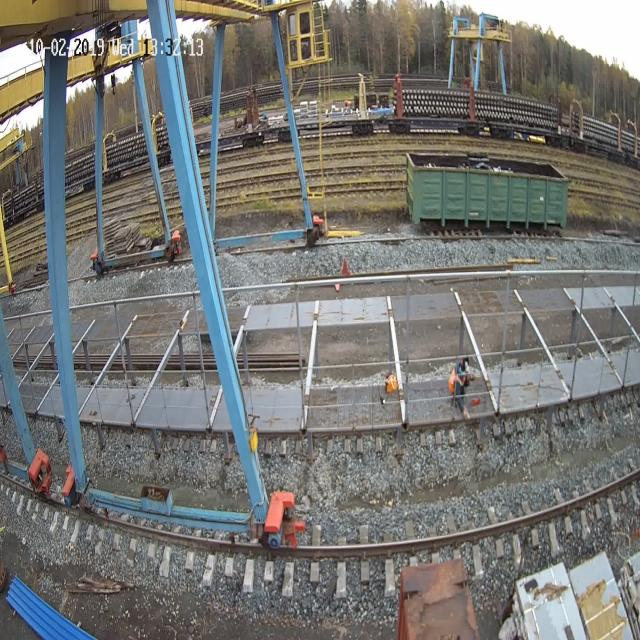Person: (446, 349, 478, 419)
